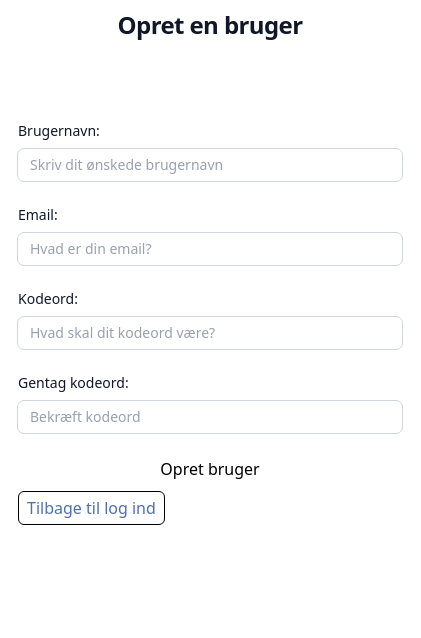
Test case: Signup page › isn't allowed to submit with invalid data
Click the button "Opret bruger".
click(210, 469)  # box x1=18 y1=457 x2=402 y2=481
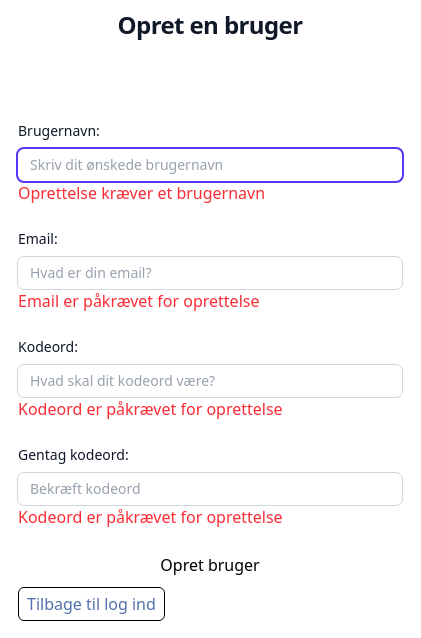
Now the text "Oprettelse kræver et brugernavn" is shown, box x1=18 y1=182 x2=265 y2=204
Now the text "Email er påkrævet for oprettelse" is shown, box x1=18 y1=290 x2=260 y2=312
Now the text "Kodeord er påkrævet for oprettelse" is shown 2 times, box x1=18 y1=398 x2=283 y2=420; x1=18 y1=506 x2=283 y2=528
